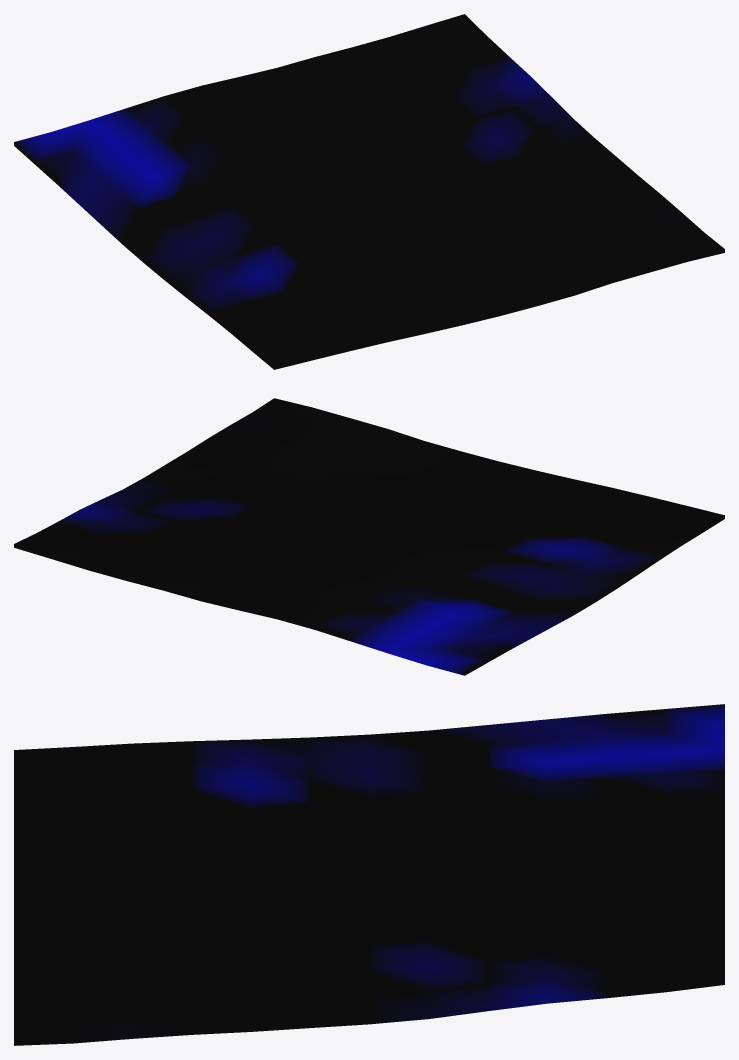
The model's file is coast_22_3.glb.
The picture shows the model from 3 angles, top to bottom: view 1: azimuth 30°, elevation 25°; view 2: azimuth 150°, elevation 25°; view 3: azimuth 270°, elevation 25°; orthographic projection. The views are drawn at different scales.
Parts seen in each view (by area): view 1: terrain; view 2: terrain; view 3: terrain.
Boxes of the visible parts, x1,y1,x2,y2 form: terrain: (14, 14, 724, 369); terrain: (14, 398, 724, 675); terrain: (14, 704, 724, 1045).
Size of the model in its own units: 192 by 23.1 by 192.
